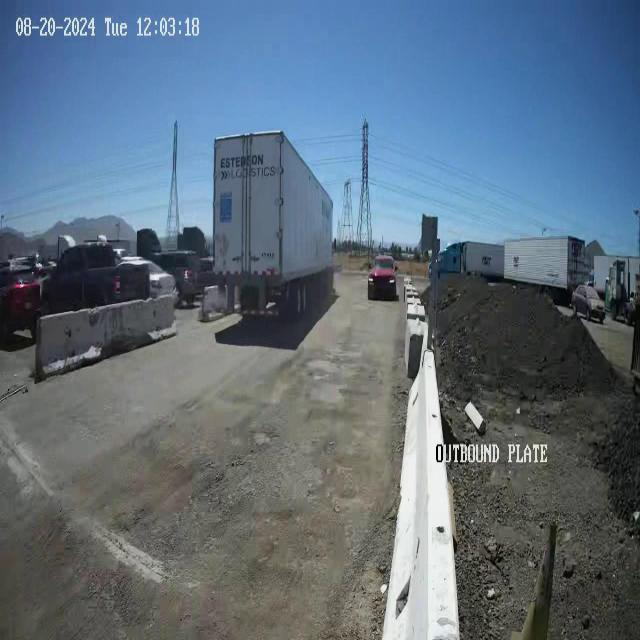CONTAINER: (217, 125, 333, 277)
